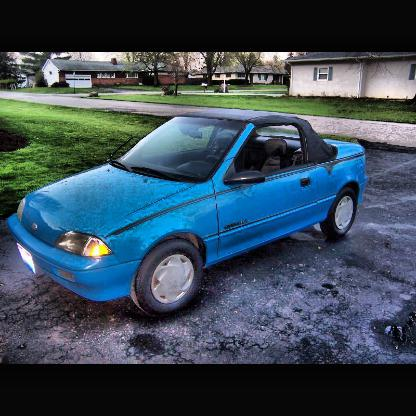Geo Metro Convertible 1993: (10, 113, 366, 312)
